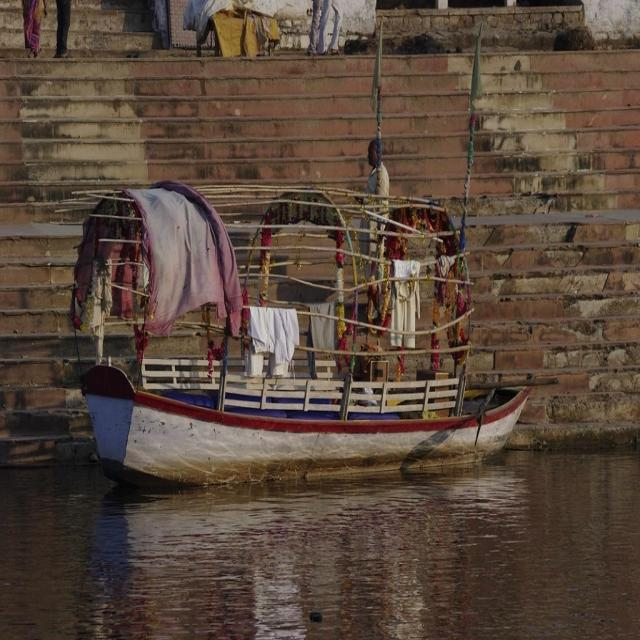boat: (60, 363, 539, 479)
